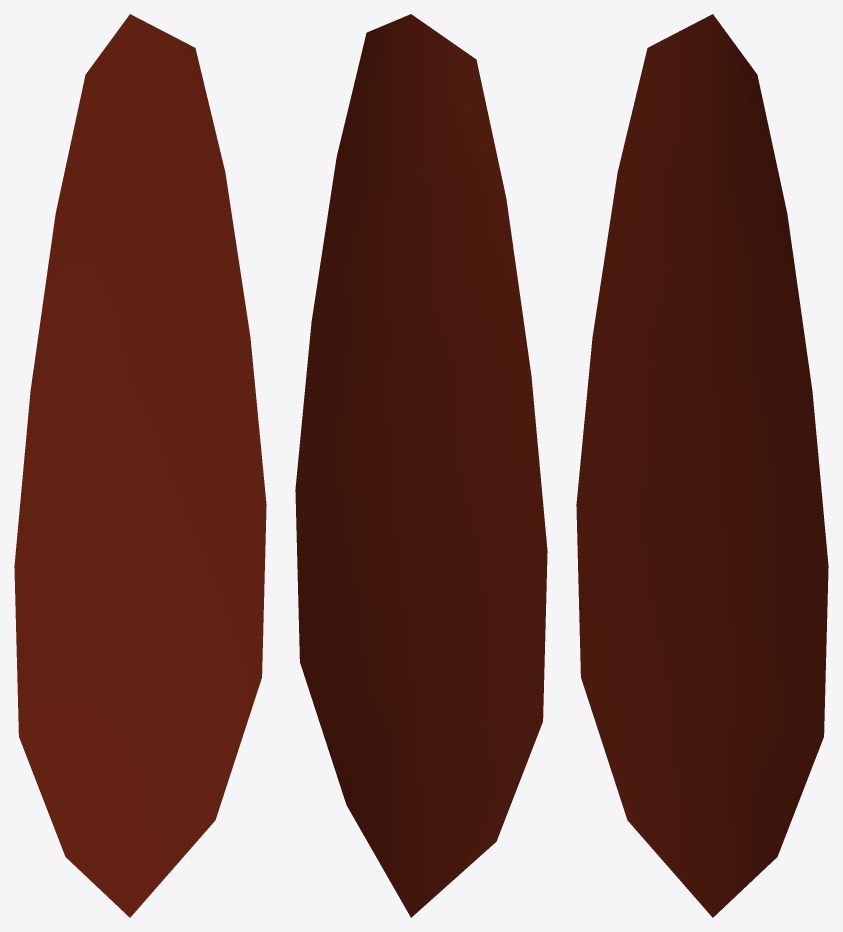
File: pheasant_feather_flight_tertiary_043.obj
3 views of the same model, side by side, from view 1: azimuth 30°, elevation 25°; view 2: azimuth 150°, elevation 25°; view 3: azimuth 330°, elevation 25° (orthographic).
Parts seen in each view (by area): view 1: feather_flight_tertiary_043; view 2: feather_flight_tertiary_043; view 3: feather_flight_tertiary_043.
Part boxes in pixels (bbox=[...]): feather_flight_tertiary_043: bbox=[14, 14, 266, 917]; feather_flight_tertiary_043: bbox=[295, 14, 547, 917]; feather_flight_tertiary_043: bbox=[576, 14, 828, 917].
Bounding box in the file's own units: 0.00887 × 0.0304 × 0.000634.
